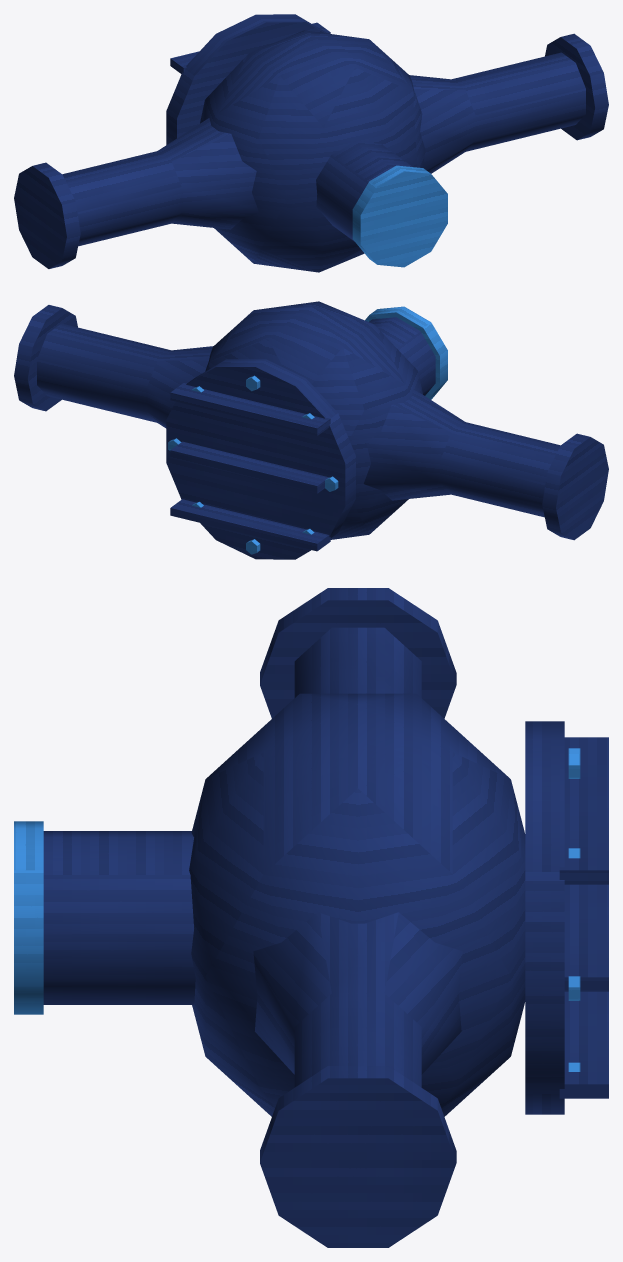
The model's file is diferencial_n2.glb.
3 renders of one model, top to bottom at view 1: azimuth 30°, elevation 25°; view 2: azimuth 150°, elevation 25°; view 3: azimuth 270°, elevation 25°, orthographic. The views are drawn at different scales.
Parts seen in each view (by area): view 1: diferencial_n2; view 2: diferencial_n2; view 3: diferencial_n2.
Part boxes in pixels (bbox=[...]): diferencial_n2: bbox=[14, 14, 608, 272]; diferencial_n2: bbox=[14, 301, 608, 559]; diferencial_n2: bbox=[14, 588, 608, 1247].
Bounding box in the file's own units: 0.59 × 0.24 × 0.3025.
Materials: 1 (1 with a texture image).
